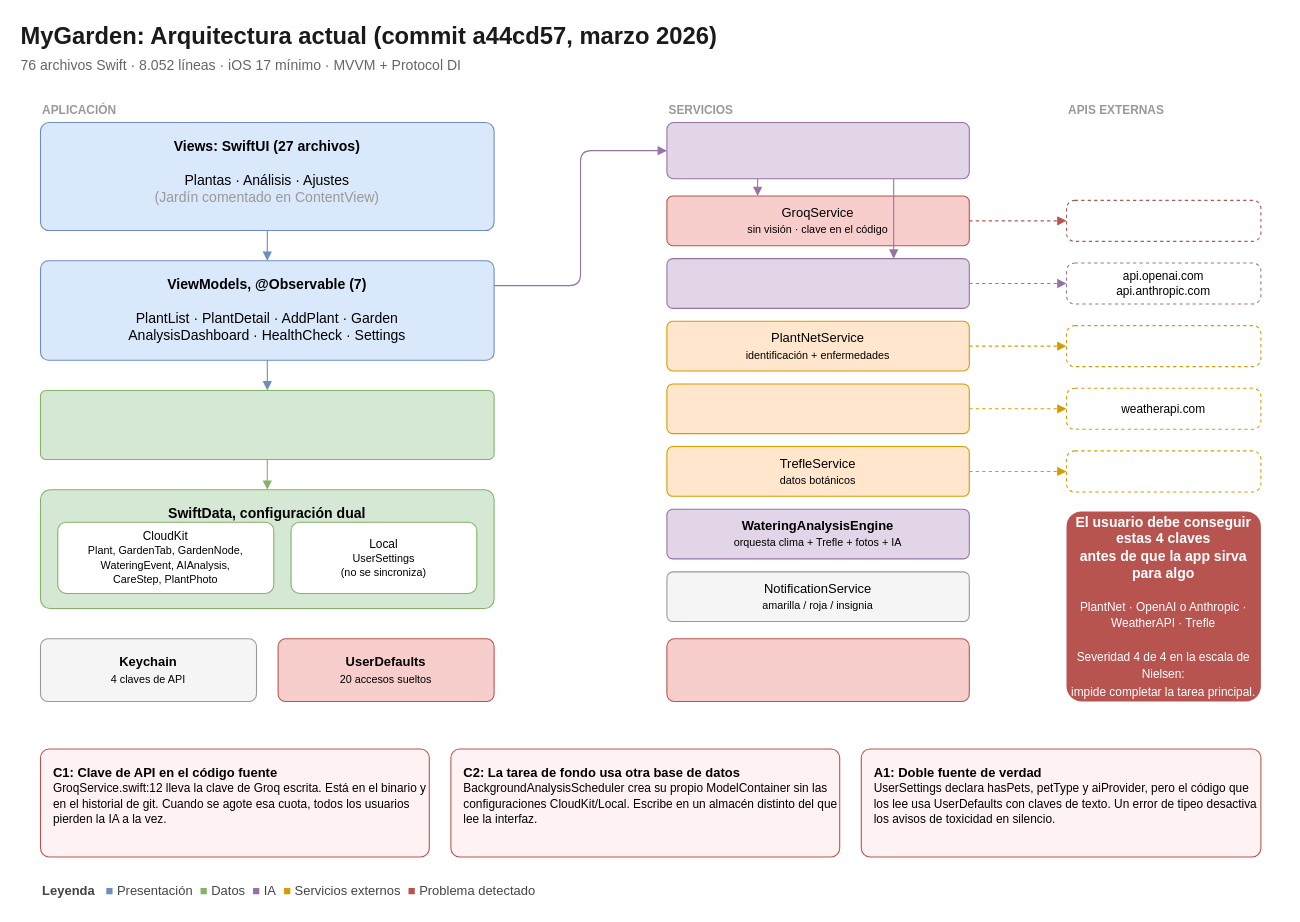
This 1300x922 diagram has some shape labels left out. Each missing label, with the centre of its shape:
"AIServiceFactory cadena de prioridad" goes at pixel 817 150.
"api.groq.com" goes at pixel 1163 220.
"BackgroundAnalysisScheduler BGAppRefreshTask diario, 6:00" goes at pixel 817 669.
"my-api.plantnet.org" goes at pixel 1163 346.
"OpenAIService · AnthropicService con visión · requiere clave del usuario" goes at pixel 817 283.
"Repositories (4) Plant · GardenTab · WateringEvent · UserSettings" goes at pixel 266 424.
"trefle.io" goes at pixel 1163 471.
"WeatherAPIService + WeatherCache actor, TTL 1 h, historial 7 días" goes at pixel 817 408.
